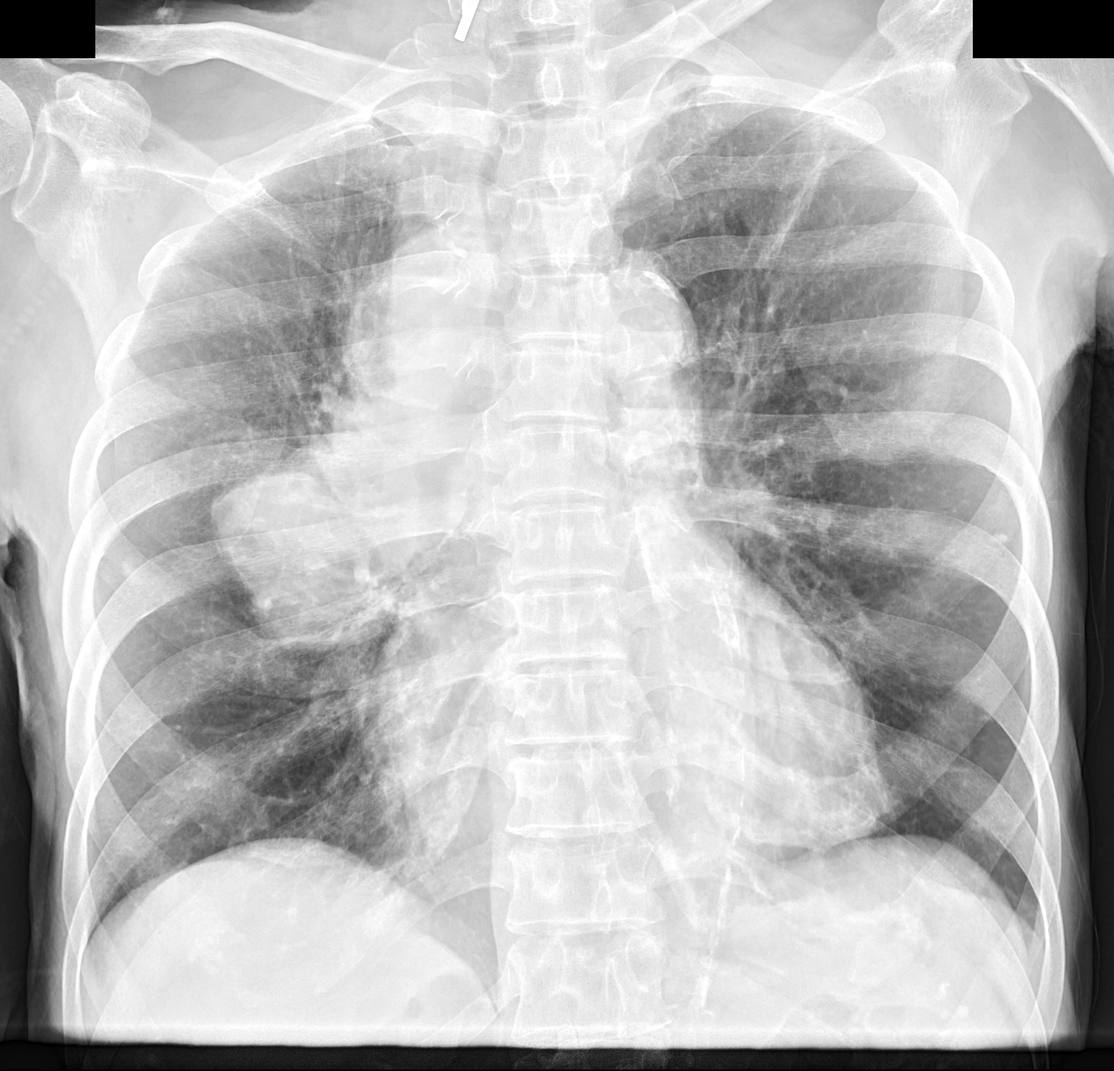Aortic enlargement: (574, 267, 703, 397)
Cardiomegaly: (371, 721, 904, 879)
Pulmonary fibrosis: (254, 503, 474, 790), (728, 138, 838, 319)
